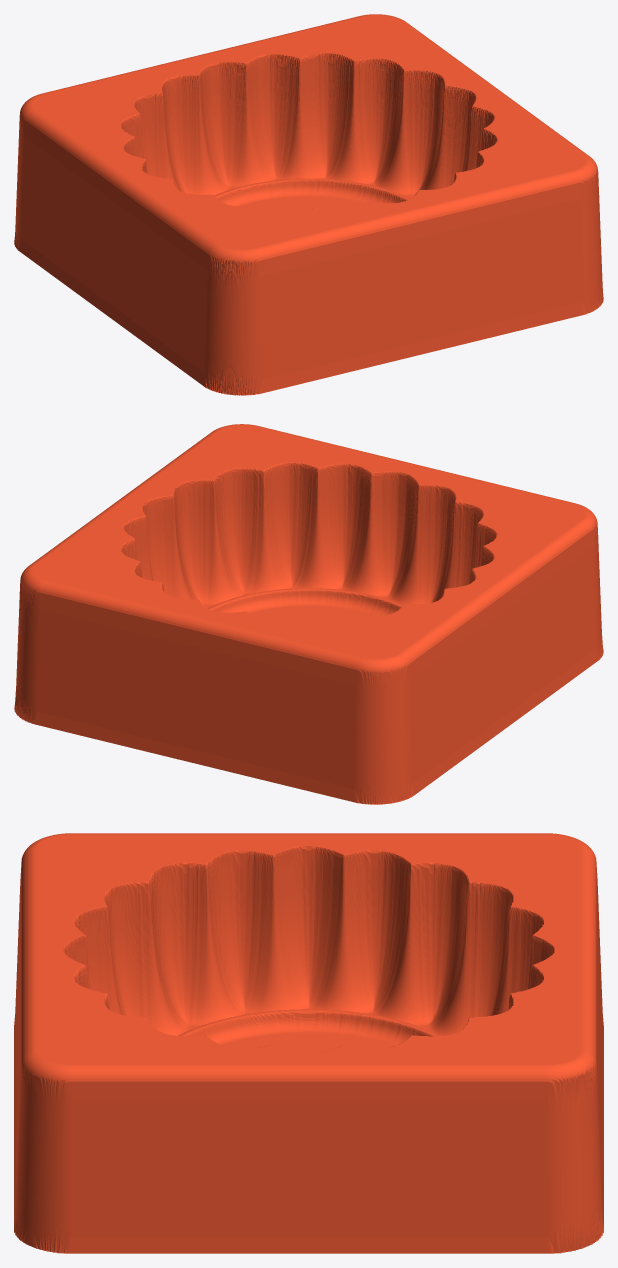
The model's file is mold.glb.
3 renders of one model, top to bottom at view 1: azimuth 30°, elevation 25°; view 2: azimuth 150°, elevation 25°; view 3: azimuth 270°, elevation 25°, orthographic. The views are drawn at different scales.
Visible parts, largest first — view 1: geometry_0; view 2: geometry_0; view 3: geometry_0.
Boxes of the visible parts, box(x1,y1,x2,y2) form: geometry_0: box(14, 14, 603, 395); geometry_0: box(14, 424, 603, 804); geometry_0: box(14, 833, 603, 1253).
Bounding box in the file's own units: 0.0924 × 0.031 × 0.0924.
